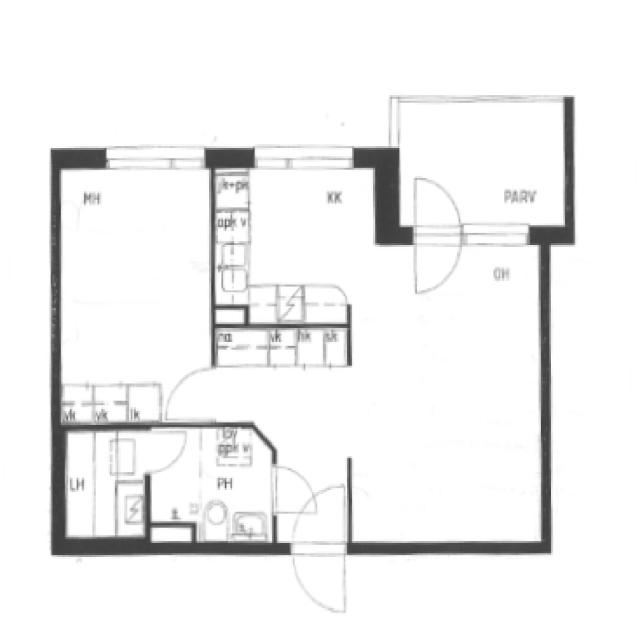door: (283, 482, 349, 614), (408, 174, 463, 296), (271, 465, 338, 556), (162, 362, 213, 426), (269, 462, 326, 517), (138, 421, 190, 479)
window: (98, 141, 208, 174), (248, 141, 364, 171), (459, 217, 537, 254)
zone: (353, 244, 551, 538), (55, 156, 215, 425), (212, 163, 385, 326), (147, 422, 276, 547), (58, 422, 150, 548)
